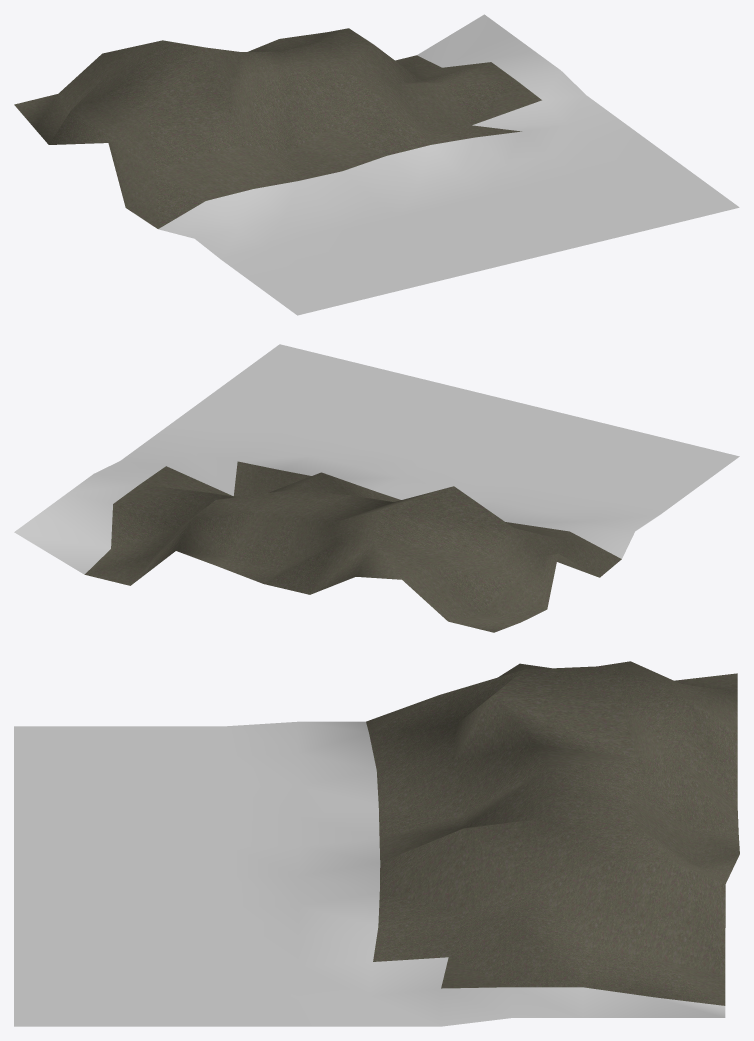
File: mayaterrain 1.fbx
3 views of the same model, one above another, from view 1: azimuth 30°, elevation 25°; view 2: azimuth 150°, elevation 25°; view 3: azimuth 270°, elevation 25° (orthographic). The views are drawn at different scales.
Parts seen in each view (by area): view 1: terrain; view 2: terrain; view 3: terrain.
Part boxes in pixels (bbox=[...]): terrain: bbox=[14, 14, 739, 315]; terrain: bbox=[14, 344, 739, 632]; terrain: bbox=[14, 661, 739, 1026].
Size of the model in its own units: 536 by 103 by 510.
